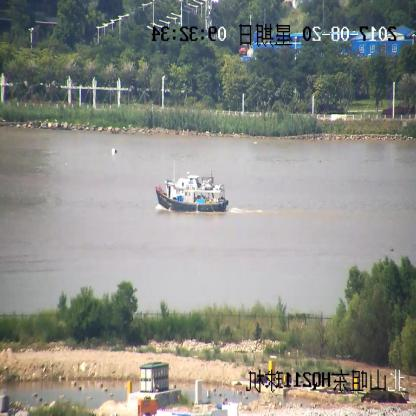Fishing Boat: (155, 171, 228, 213)
